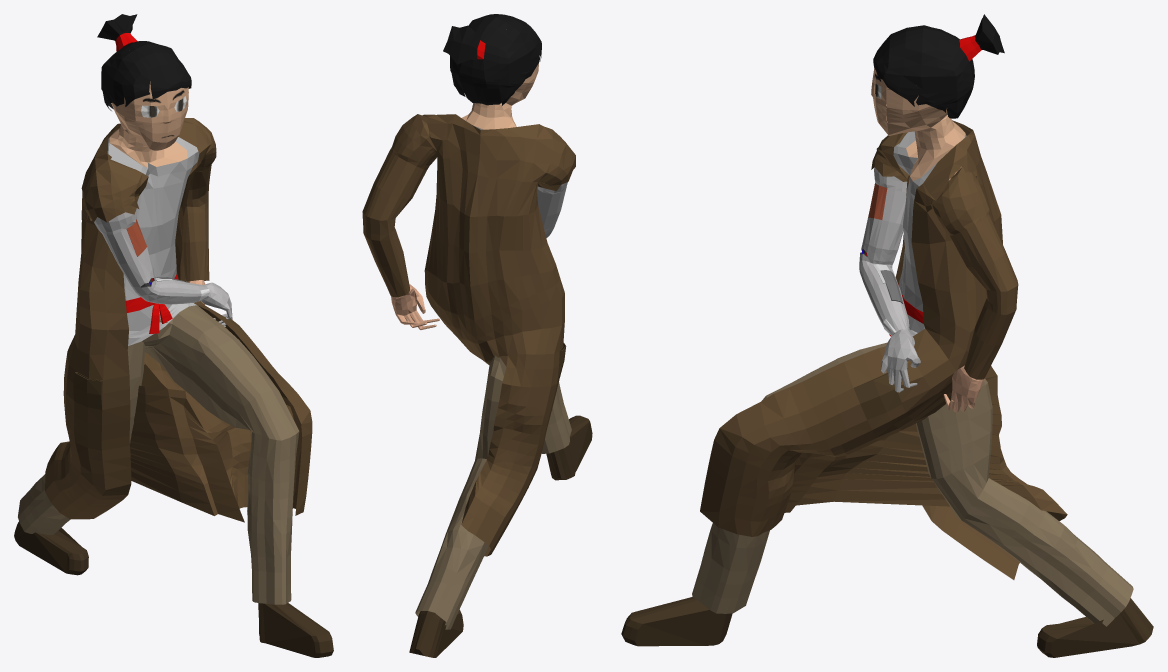
File: One_RB_000012.obj
3 views of the same model, side by side, from view 1: azimuth 30°, elevation 25°; view 2: azimuth 150°, elevation 25°; view 3: azimuth 270°, elevation 25° (orthographic). The views are drawn at different scales.
Parts seen in each view (by area): view 1: Hair_Cube.004; view 2: Hair_Cube.004; view 3: Hair_Cube.004.
Part boxes in pixels (x1=…): Hair_Cube.004: x1=14, y1=14, x2=333, y2=657; Hair_Cube.004: x1=362, y1=14, x2=592, y2=657; Hair_Cube.004: x1=621, y1=14, x2=1153, y2=657.
Size of the model in its own units: 1.06 by 3.54 by 2.65.
